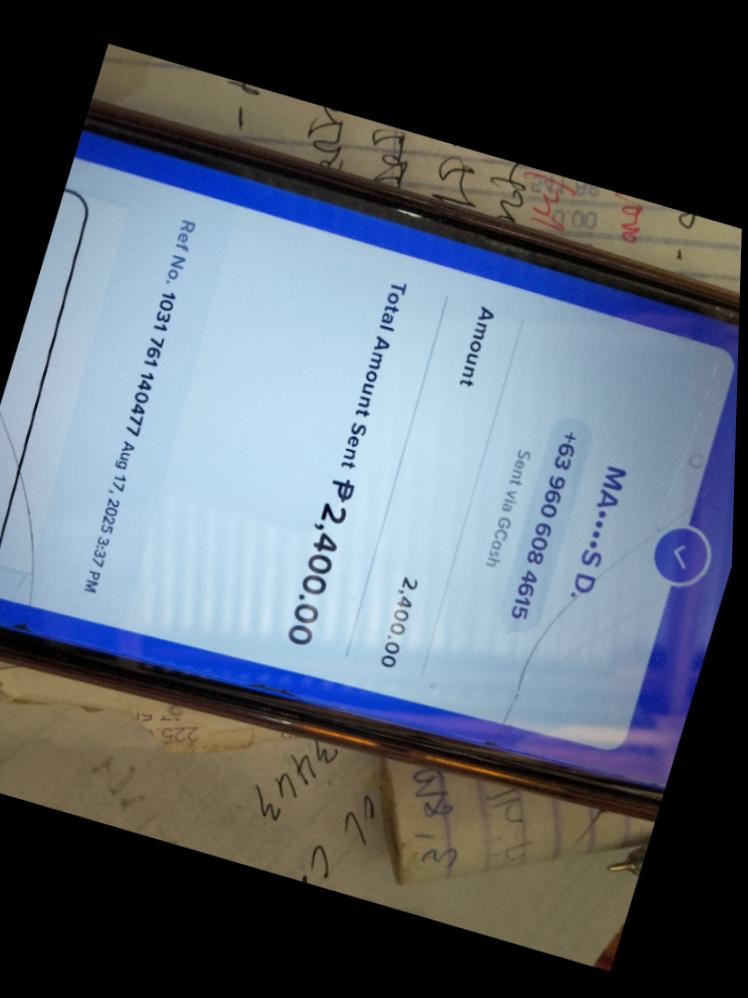Receipt: (0, 134, 739, 790)
